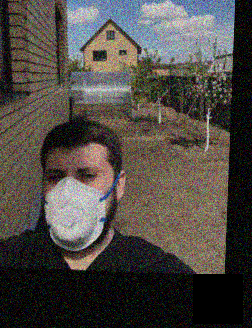with_mask: (41, 151, 112, 256)
